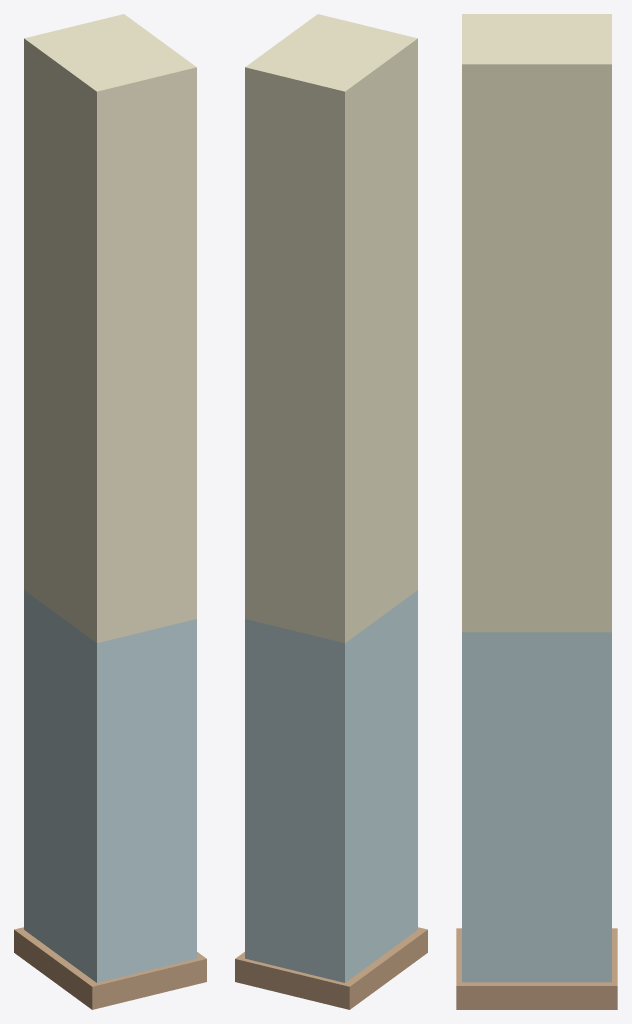
File: pillar.fbx
3 views of the same model, side by side, from view 1: azimuth 30°, elevation 25°; view 2: azimuth 150°, elevation 25°; view 3: azimuth 270°, elevation 25° (orthographic). The views are drawn at different scales.
Parts seen in each view (by area): view 1: Cube; view 2: Cube; view 3: Cube.
Boxes of the visible parts, x1,y1,x2,y2 form: Cube: [14, 14, 206, 1009]; Cube: [235, 14, 427, 1009]; Cube: [456, 14, 617, 1009].
Size of the model in its own units: 11.72 by 89.3 by 13.85.
